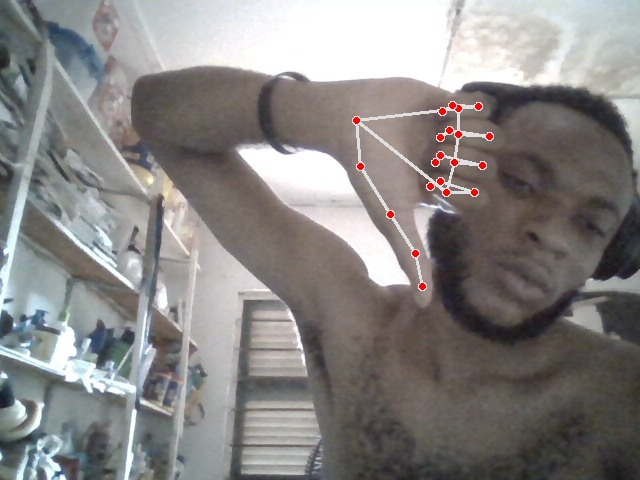thumbsdown: (340, 77, 505, 310)
